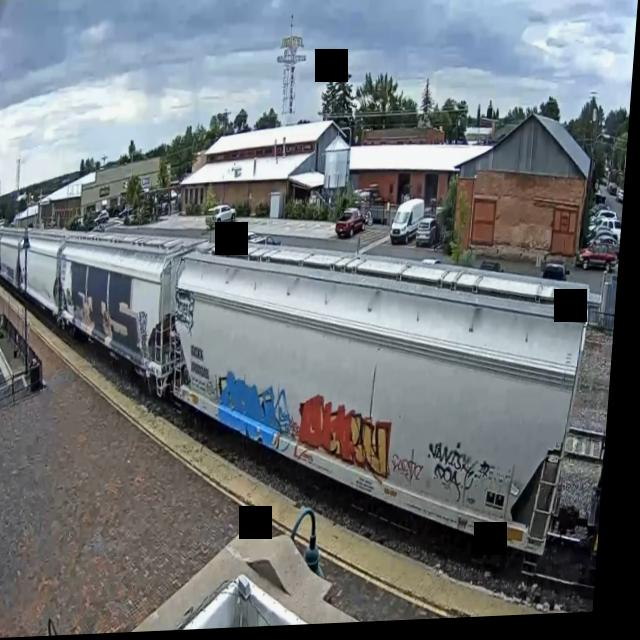hopper: (153, 216, 609, 607), (55, 226, 198, 413)
